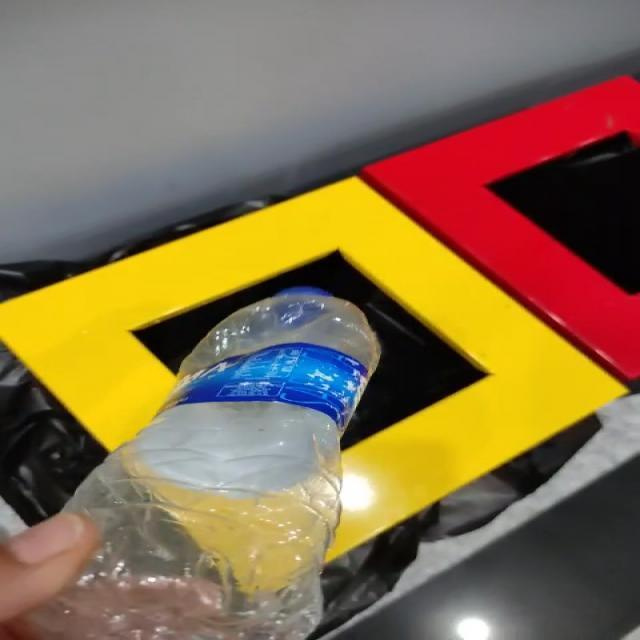Plastic: (27, 287, 380, 640)
